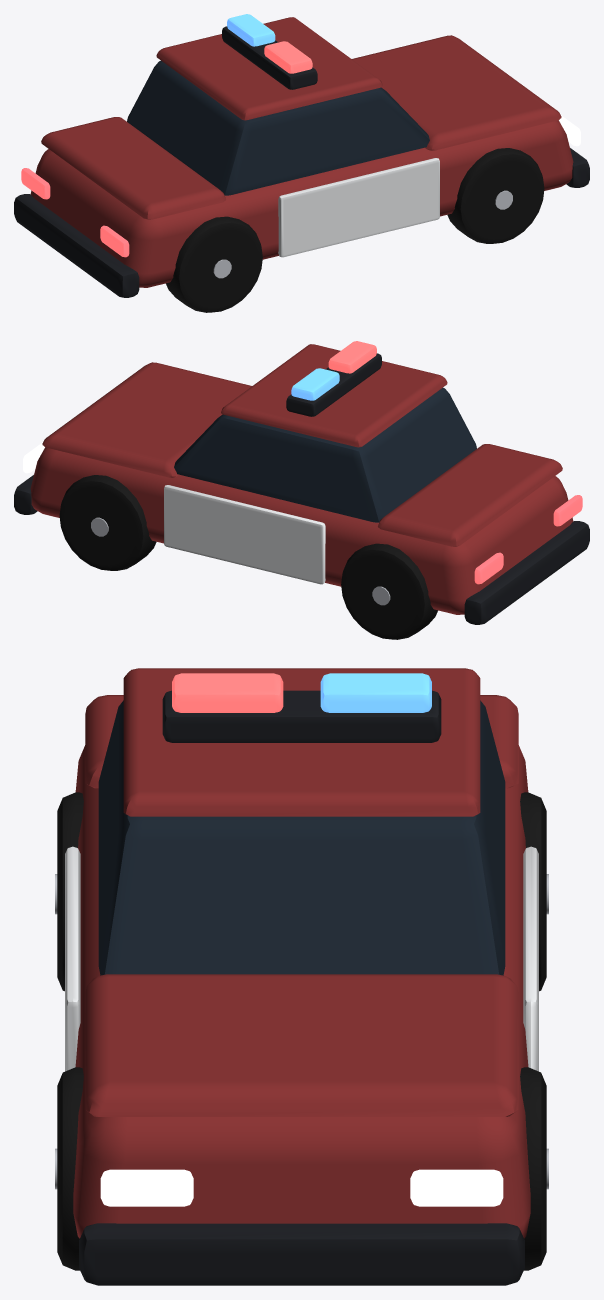
File: police.glb
3 views of the same model, one above another, from view 1: azimuth 30°, elevation 25°; view 2: azimuth 150°, elevation 25°; view 3: azimuth 270°, elevation 25° (orthographic). The views are drawn at different scales.
Visible parts, largest first — view 1: part-paint, part-glass, part-livery-white, part-trim, wheel-+10--1-tyre, wheel--10--1-tyre, part-taillight, part-beacon-red, part-beacon-blue; view 2: part-paint, part-glass, part-livery-white, part-trim, wheel-+10-1-tyre, wheel--10-1-tyre, part-taillight, part-beacon-blue, part-beacon-red; view 3: part-paint, part-glass, part-trim, part-livery-white, part-beacon-blue, part-beacon-red, wheel-+10-1-tyre, wheel-+10--1-tyre, headlight-1, headlight--1, wheel--10-1-tyre, wheel--10--1-tyre.
Part boxes in pixels (x1=…): part-paint: x1=30, y1=17, x2=573, y2=287; part-glass: x1=127, y1=60, x2=429, y2=195; part-livery-white: x1=278, y1=158, x2=439, y2=257; part-trim: x1=14, y1=26, x2=589, y2=297; wheel-+10--1-tyre: x1=447, y1=148, x2=544, y2=243; wheel--10--1-tyre: x1=166, y1=216, x2=262, y2=312; part-taillight: x1=21, y1=168, x2=129, y2=257; part-beacon-red: x1=264, y1=41, x2=312, y2=73; part-beacon-blue: x1=227, y1=14, x2=275, y2=46; part-paint: x1=30, y1=344, x2=573, y2=614; part-glass: x1=174, y1=387, x2=476, y2=522; part-livery-white: x1=164, y1=485, x2=325, y2=584; part-trim: x1=14, y1=353, x2=589, y2=624; wheel-+10-1-tyre: x1=59, y1=475, x2=156, y2=570; wheel--10-1-tyre: x1=341, y1=543, x2=437, y2=639; part-taillight: x1=474, y1=495, x2=582, y2=584; part-beacon-blue: x1=291, y1=368, x2=339, y2=400; part-beacon-red: x1=328, y1=341, x2=376, y2=373; part-paint: x1=73, y1=668, x2=530, y2=1238; part-glass: x1=98, y1=700, x2=505, y2=975; part-trim: x1=79, y1=690, x2=524, y2=1285; part-livery-white: x1=65, y1=846, x2=538, y2=1071; part-beacon-blue: x1=320, y1=673, x2=431, y2=712; part-beacon-red: x1=172, y1=673, x2=283, y2=712; wheel-+10-1-tyre: x1=520, y1=1067, x2=546, y2=1270; wheel-+10--1-tyre: x1=57, y1=1067, x2=83, y2=1270; headlight-1: x1=410, y1=1169, x2=503, y2=1206; headlight--1: x1=100, y1=1169, x2=193, y2=1206; wheel--10-1-tyre: x1=520, y1=792, x2=546, y2=991; wheel--10--1-tyre: x1=57, y1=792, x2=83, y2=991.
Bounding box in the file's own units: 35.2 × 14.65 × 15.96.
